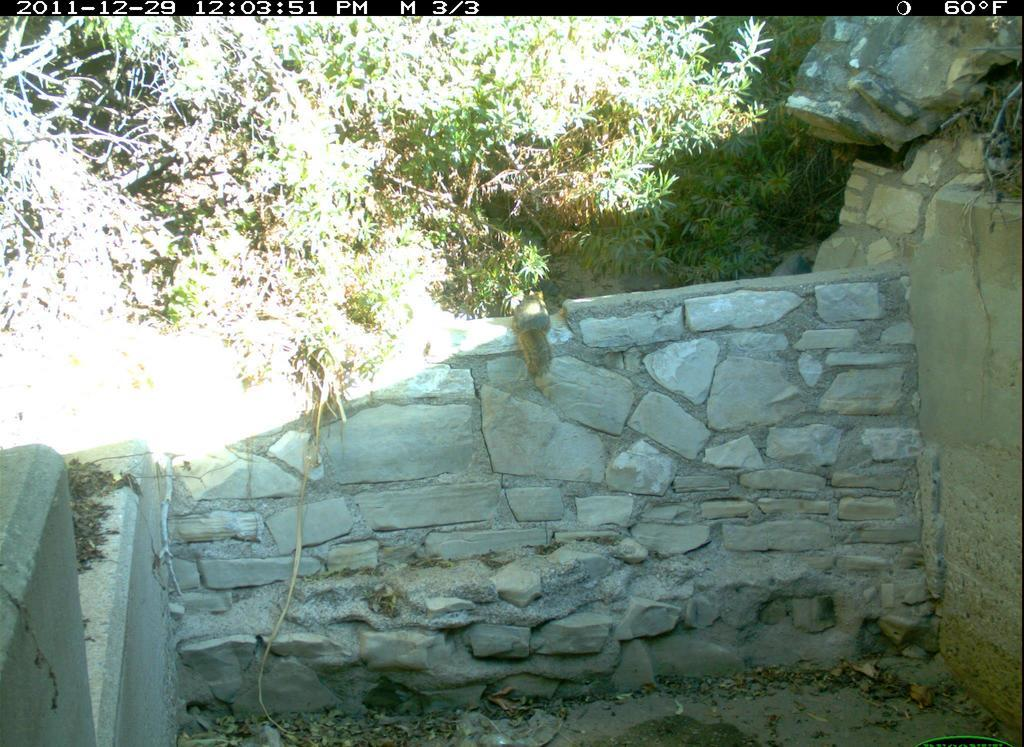squirrel: (509, 281, 561, 400)
